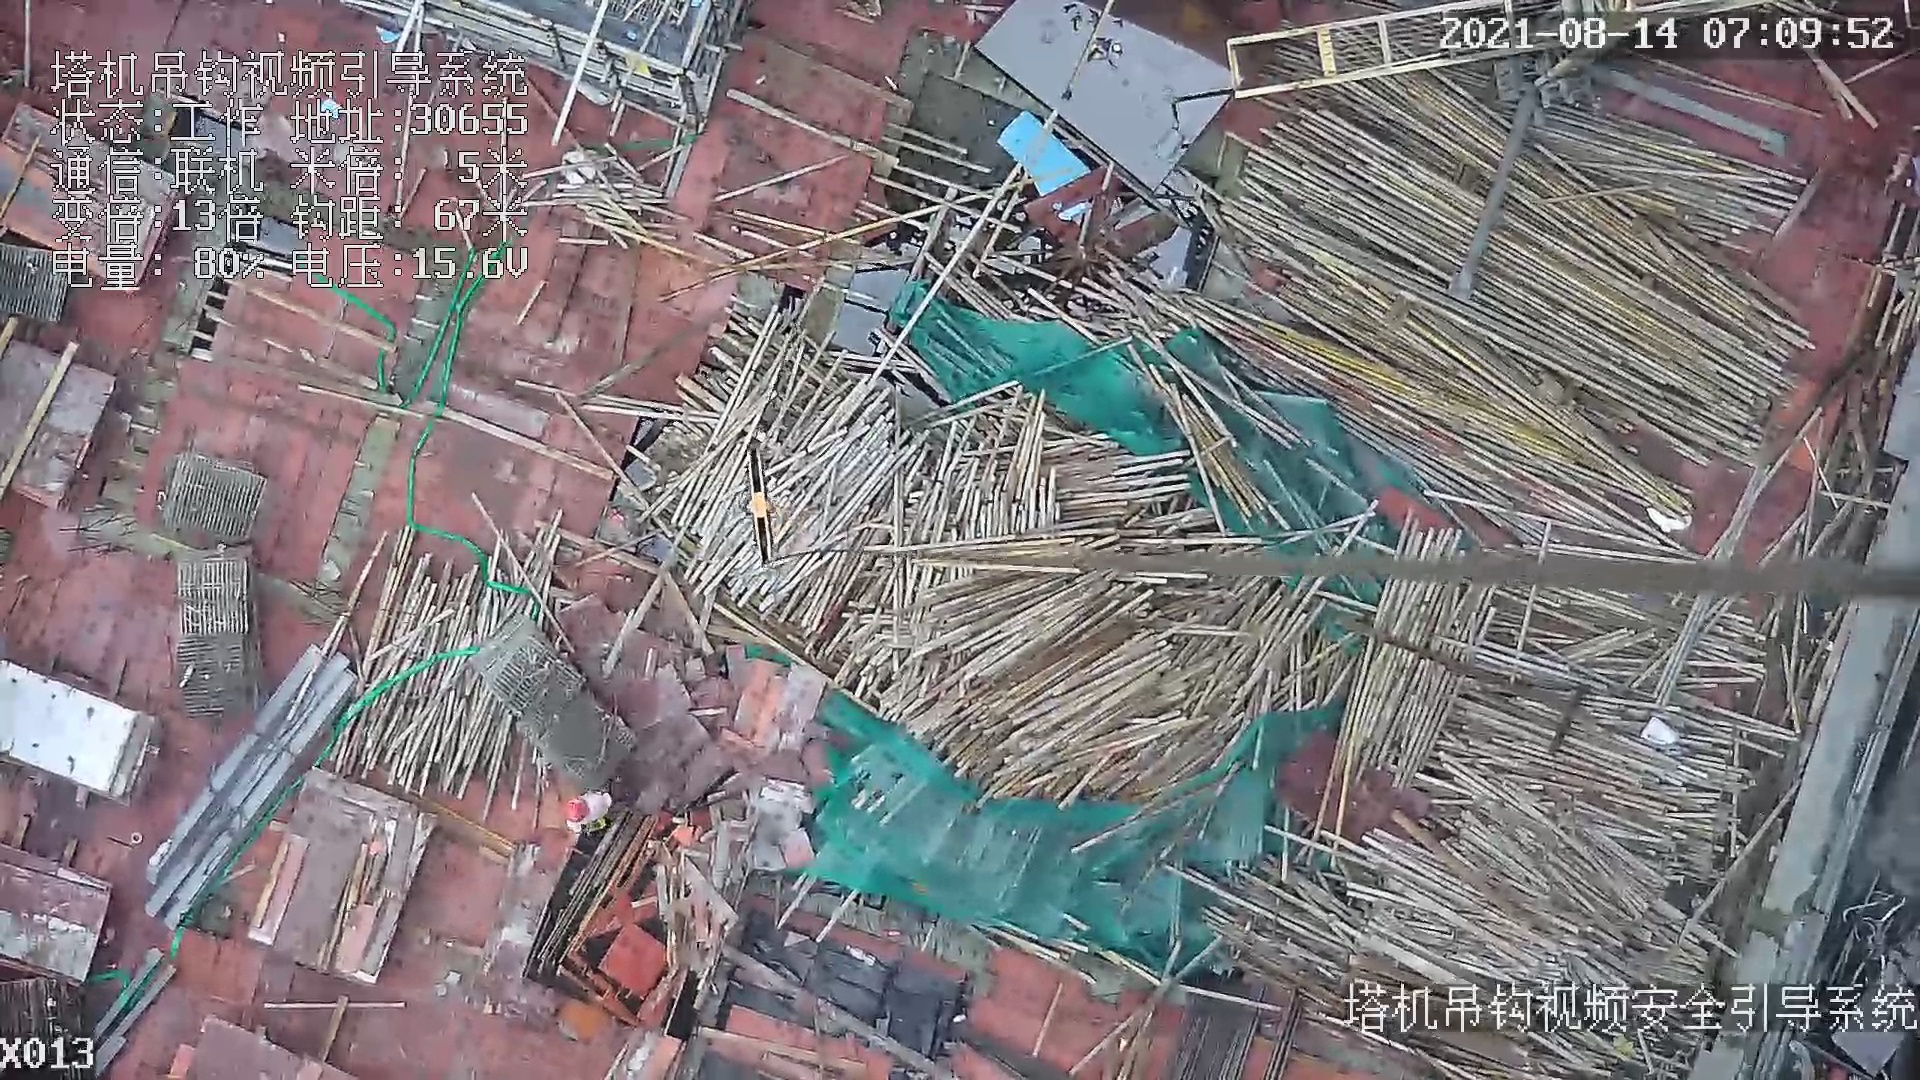helmet: (567, 799, 590, 822)
hook: (736, 444, 785, 567)
person: (560, 785, 627, 835)
